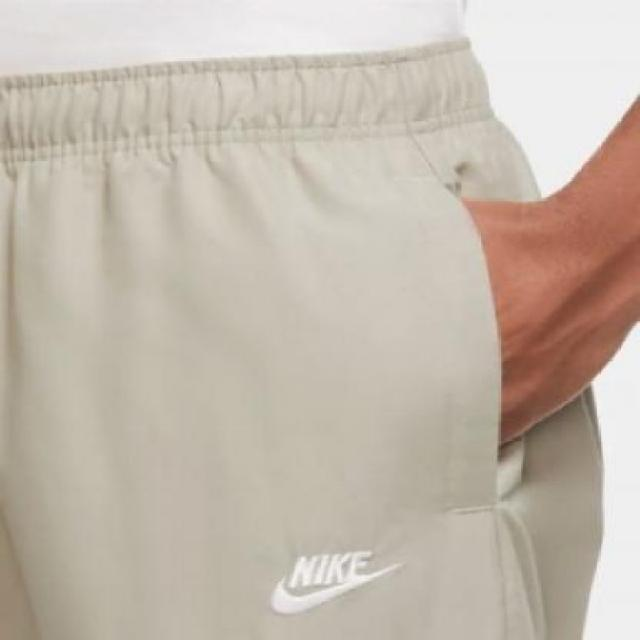Nike: (269, 549, 402, 614)
